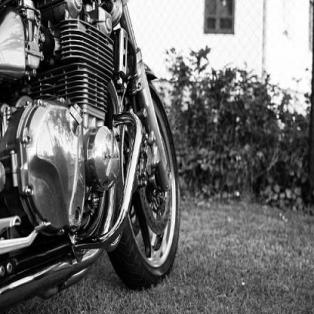Motocicleta: (1, 0, 184, 313)
